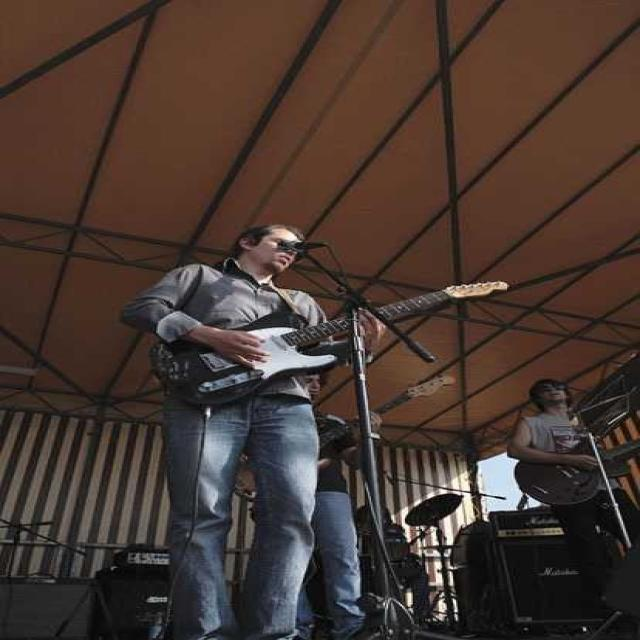microphone: (273, 237, 340, 271)
